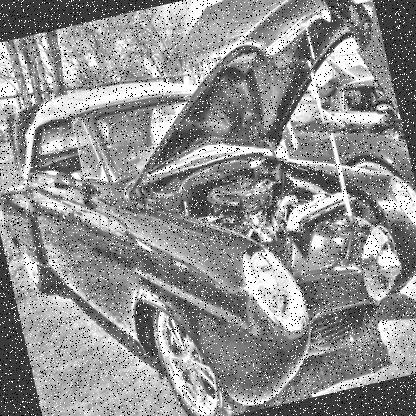Car: (0, 0, 415, 415), (257, 0, 415, 269), (307, 44, 399, 136)
